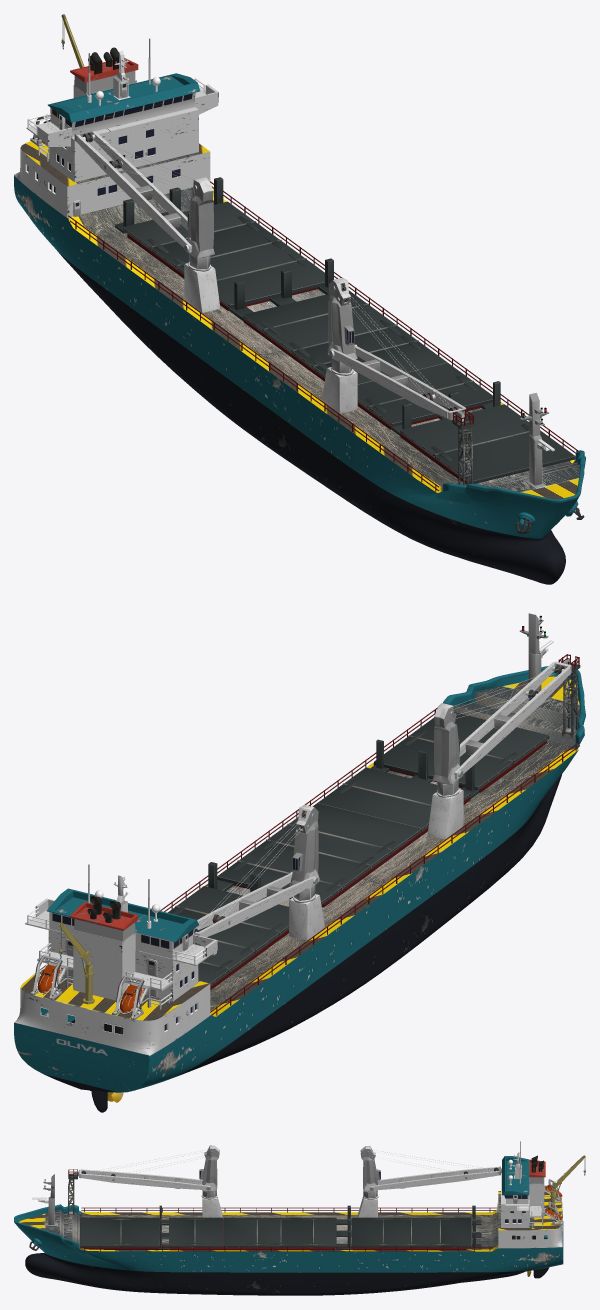
The model's file is ship_3.glb.
3 views of the same model, one above another, from view 1: azimuth 30°, elevation 25°; view 2: azimuth 150°, elevation 25°; view 3: azimuth 270°, elevation 25° (orthographic). The views are drawn at different scales.
Parts seen in each view (by area): view 1: Object_23, Object_53, Object_34, Object_14, Object_35, Object_16, Object_18, Object_22, Object_19, Object_17, Object_25, Object_41 (+3 smaller); view 2: Object_23, Object_34, Object_14, Object_53, Object_16, Object_18, Object_35, Object_5, Object_36, Object_22, Object_17, Object_19 (+6 smaller); view 3: Object_23, Object_53, Object_34, Object_35, Object_14, Object_18, Object_22, Object_16, Object_17, Object_36, Object_19, Object_25 (+3 smaller).
Boxes of the visible parts, box(x1,y1,x2,y2) form: Object_23: box(14, 73, 579, 538); Object_53: box(57, 225, 565, 584); Object_34: box(124, 221, 577, 485); Object_14: box(20, 138, 579, 499); Object_35: box(115, 177, 579, 487); Object_16: box(14, 38, 460, 411); Object_18: box(59, 76, 466, 421); Object_22: box(68, 181, 578, 491); Object_19: box(50, 51, 548, 488); Object_17: box(37, 84, 357, 362); Object_25: box(437, 460, 580, 513); Object_41: box(27, 83, 353, 343); Object_23: box(40, 692, 579, 1089); Object_34: box(175, 663, 580, 981); Object_14: box(20, 676, 580, 1020); Object_53: box(44, 774, 561, 1112); Object_16: box(14, 666, 564, 1056); Object_18: box(39, 659, 571, 980); Object_35: box(168, 692, 578, 986); Object_5: box(14, 1022, 149, 1092); Object_36: box(33, 919, 150, 1016); Object_22: box(160, 654, 579, 1015); Object_17: box(35, 703, 463, 997); Object_19: box(49, 613, 548, 958); Object_23: box(23, 1156, 563, 1272); Object_53: box(25, 1235, 549, 1295); Object_34: box(61, 1174, 454, 1248); Object_35: box(59, 1205, 481, 1249); Object_14: box(19, 1191, 562, 1251); Object_18: box(73, 1145, 541, 1217); Object_22: box(68, 1169, 497, 1251); Object_16: box(112, 1141, 562, 1248); Object_17: box(199, 1145, 530, 1221); Object_36: box(529, 1177, 560, 1224); Object_19: box(39, 1152, 529, 1225); Object_25: box(15, 1207, 86, 1254).
Size of the model in its own units: 2.86 by 3.67 by 14.69.
Materials: 35 (31 with a texture image).
